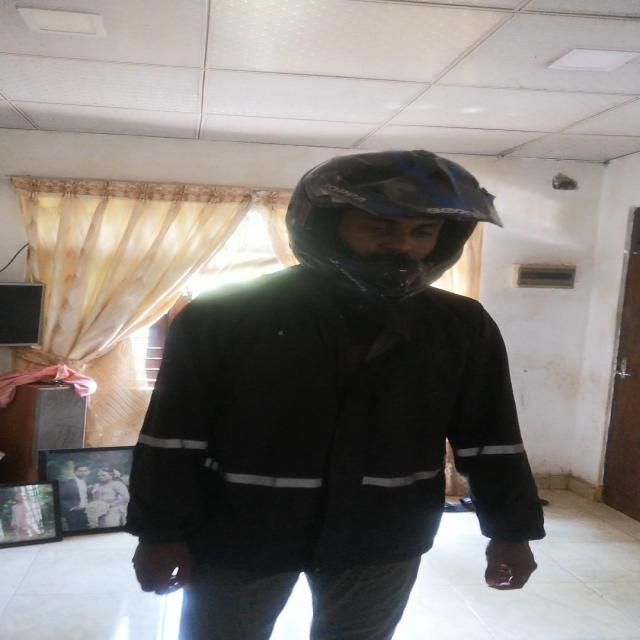Helmet_Wearer: (264, 149, 504, 305)
Jacket_Wearer: (123, 260, 563, 600)
Person: (124, 148, 560, 640)
